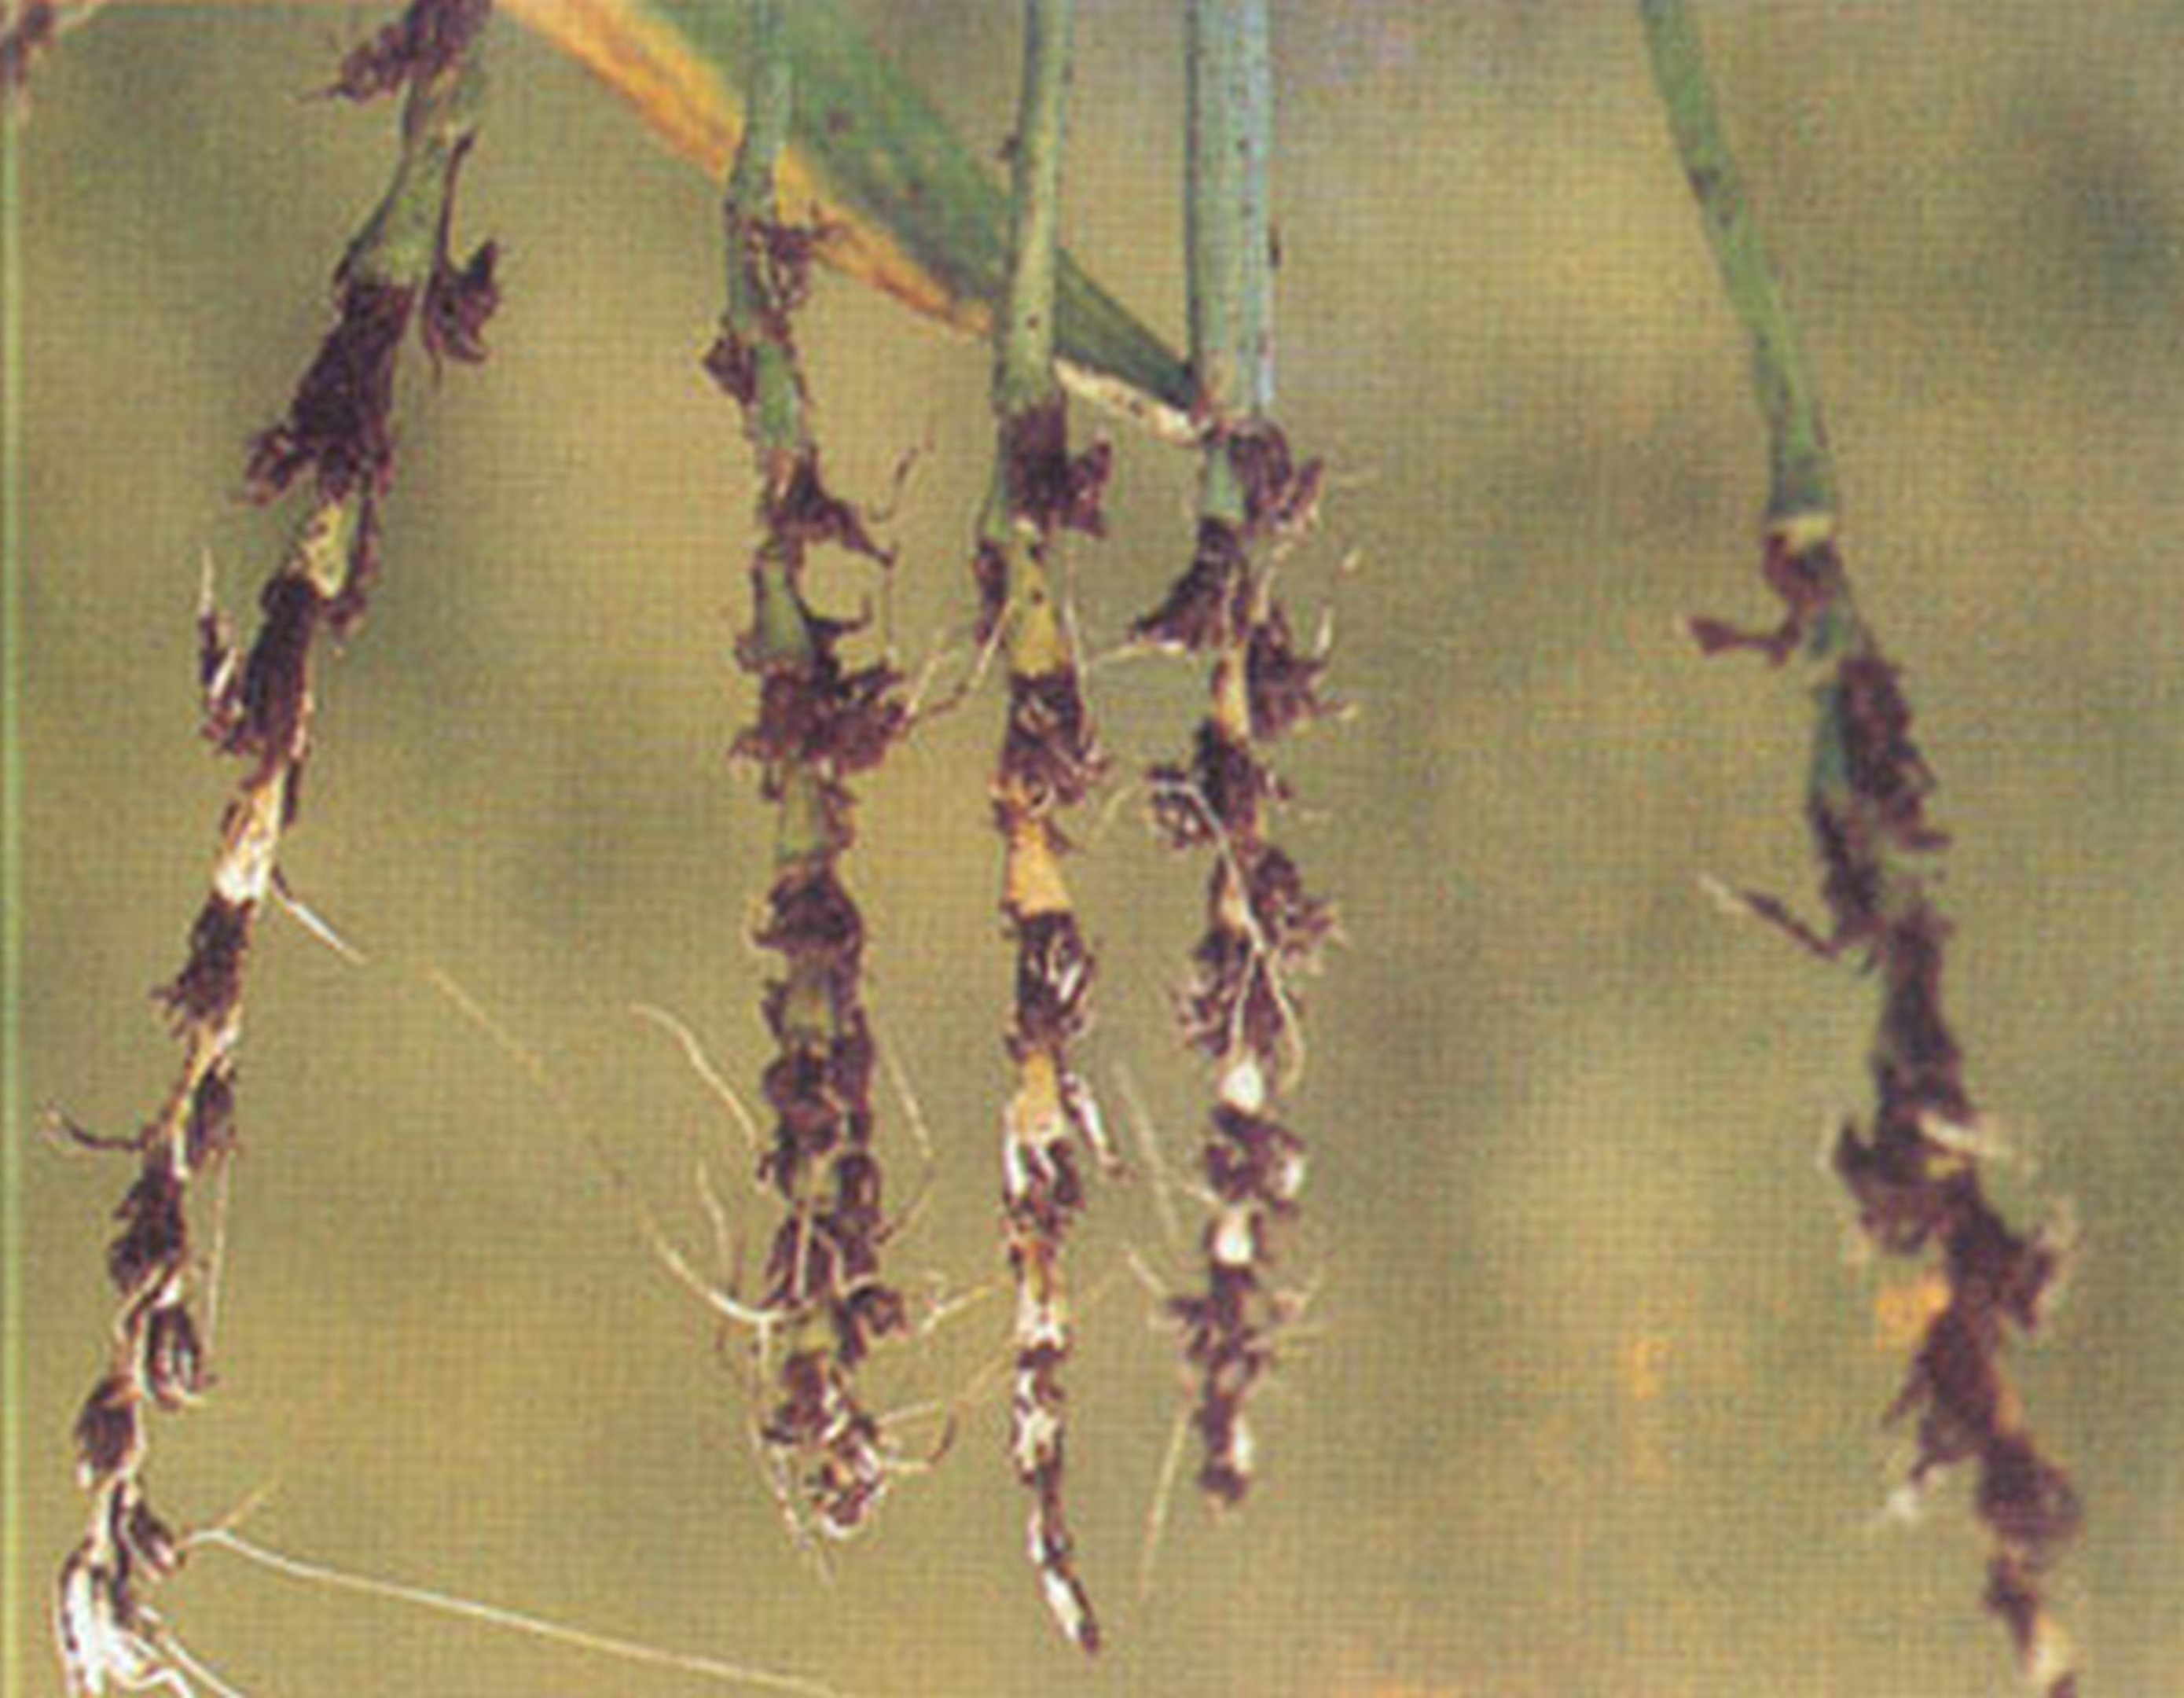Wheat Loose Smut: (670, 312, 1422, 1546)
